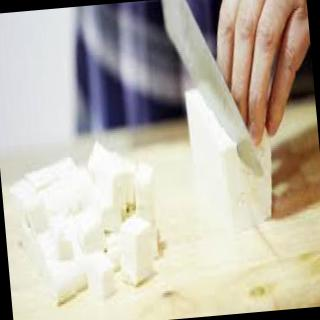Tahu: (9, 118, 195, 315)
